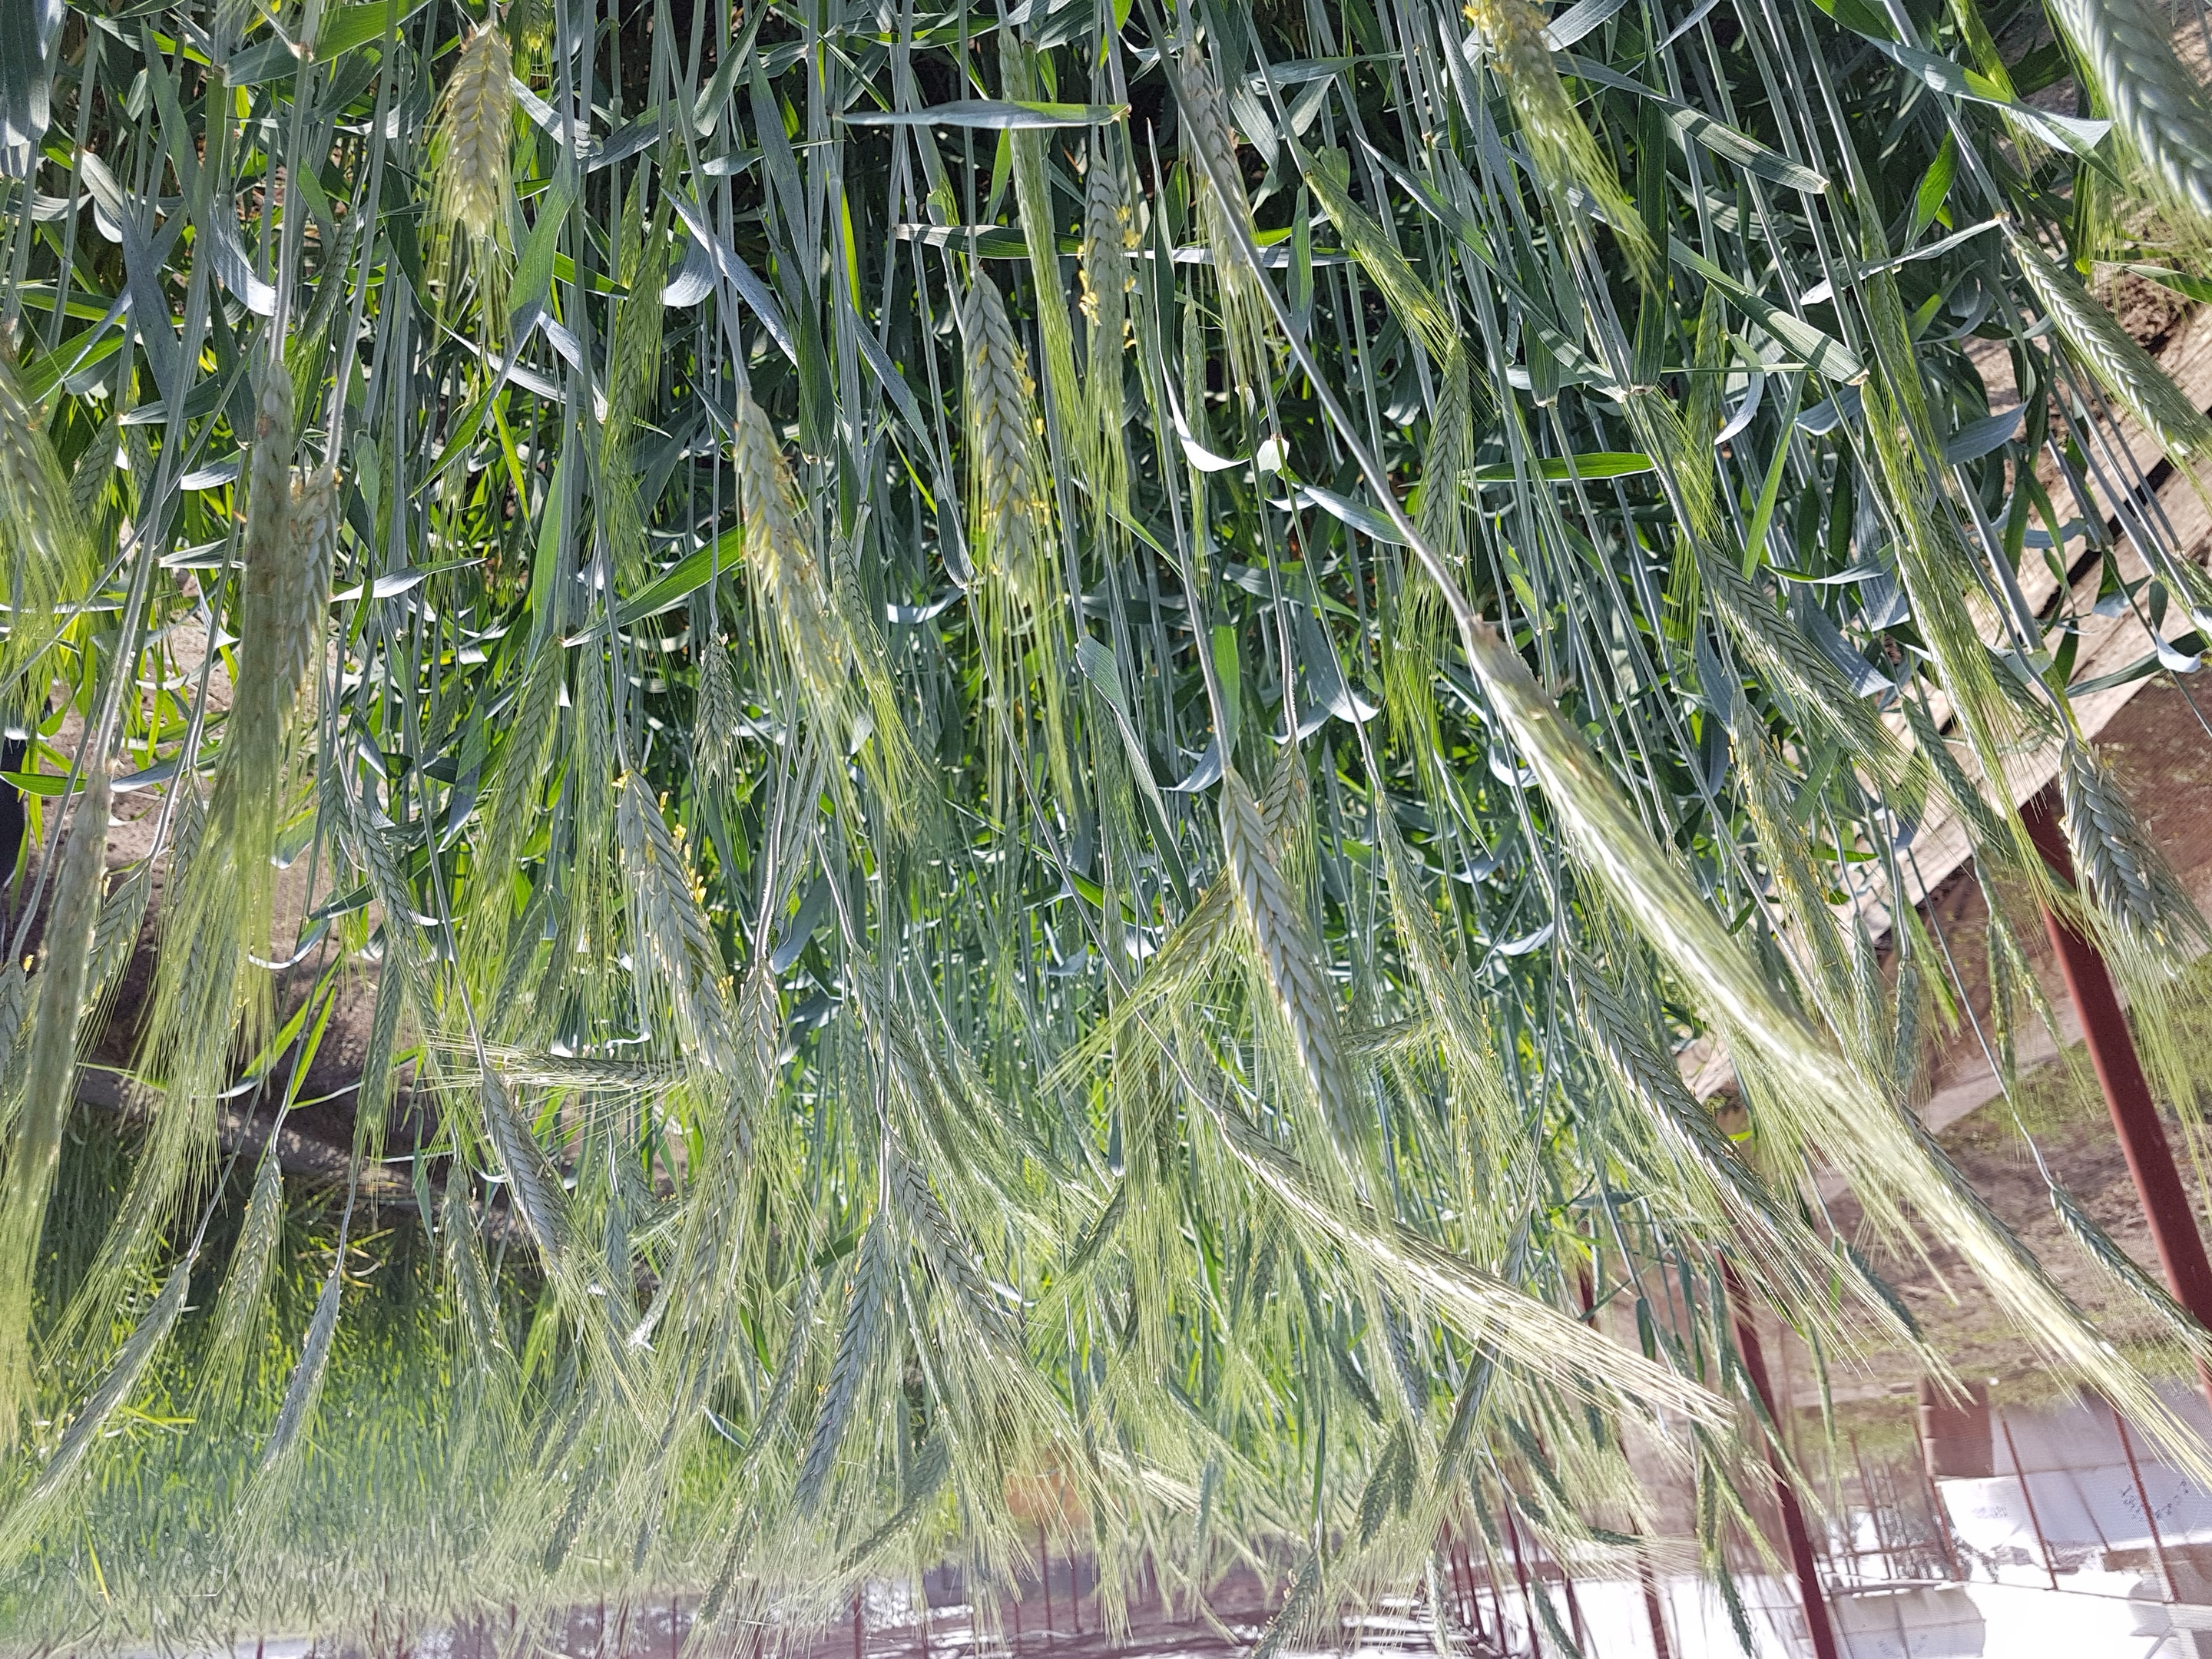Healthy Wheat: (1176, 779, 1400, 1166), (913, 247, 1099, 584)
